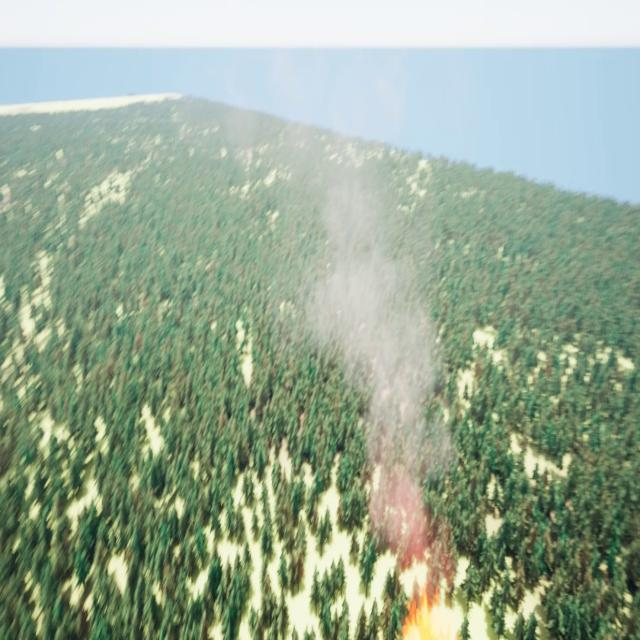fire: (401, 586, 460, 639)
smoke: (232, 51, 453, 562)
